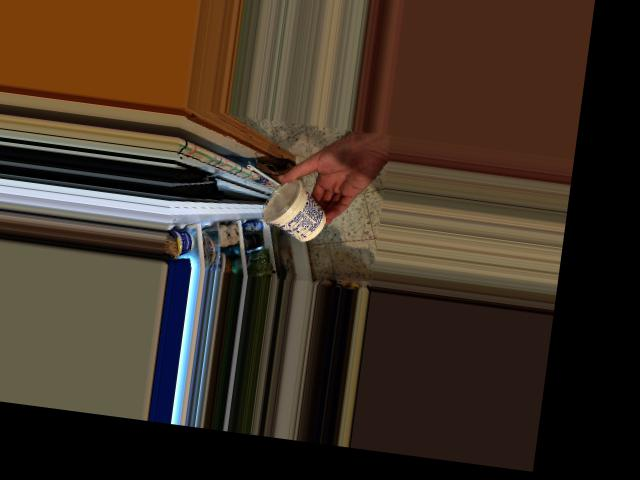cotage: (259, 179, 323, 241)
